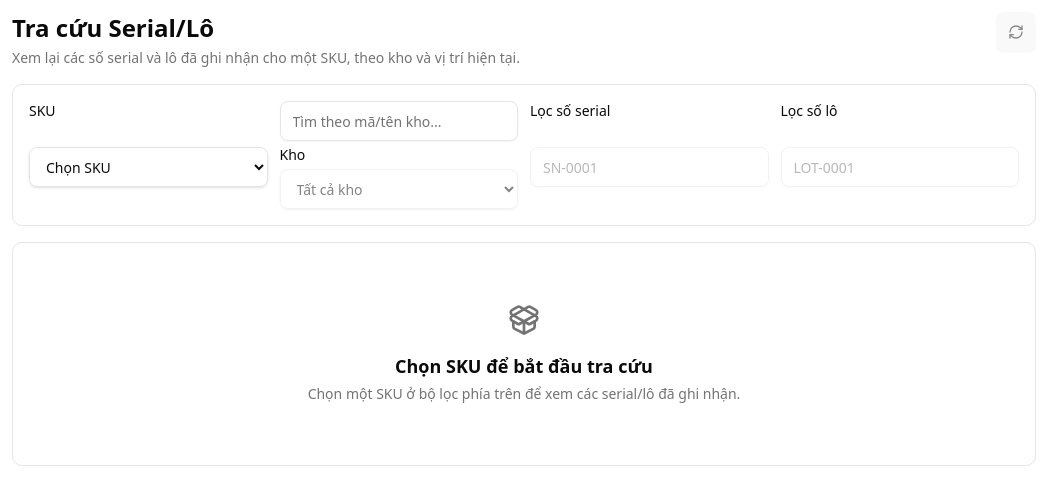
InventoryLookupPage › lists serial/lot results once a SKU is selected
Select "SKU-A - Cuộn cáp mạng" in the dropdown labelled "SKU". click: [148, 167]
box: x1=29 y1=147 x2=268 y2=187
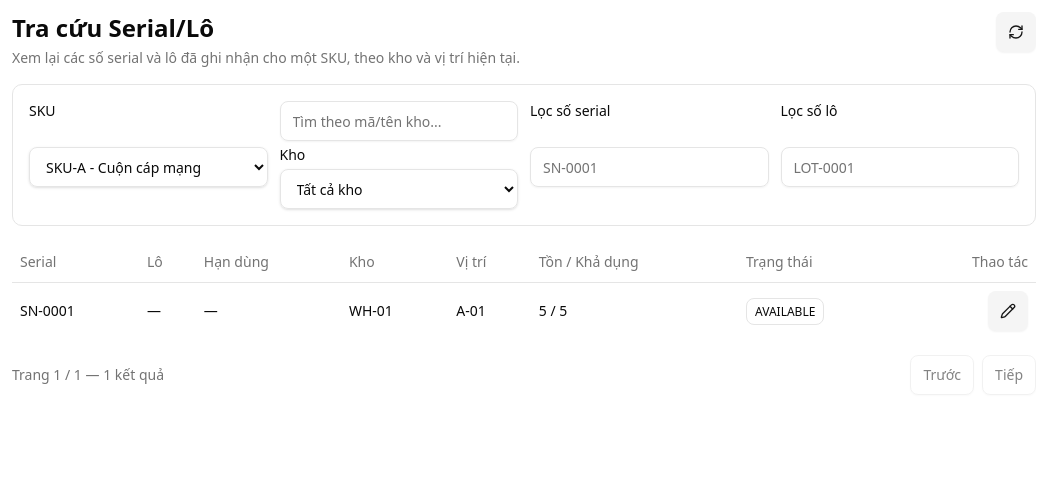
Now the text "SN-0001" is shown, box x1=12 y1=282 x2=139 y2=338
Now the text "WH-01" is shown, box x1=341 y1=282 x2=448 y2=338
Now the text "A-01" is shown, box x1=448 y1=282 x2=531 y2=338
